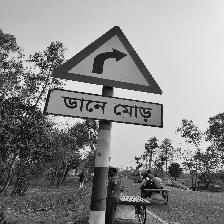Right-turn: (46, 26, 165, 128)
